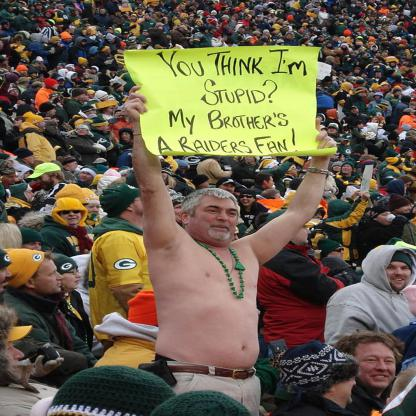face: (192, 201, 239, 243), (358, 352, 397, 389), (1, 337, 25, 378), (36, 266, 64, 293), (336, 375, 356, 409), (386, 262, 411, 289), (293, 222, 312, 244), (63, 267, 82, 288), (175, 205, 194, 225), (22, 239, 43, 257), (1, 265, 13, 295), (63, 208, 82, 226), (134, 196, 149, 216), (38, 174, 53, 190), (378, 212, 394, 225), (332, 247, 344, 260), (5, 174, 15, 189), (89, 204, 100, 217), (242, 195, 254, 206), (301, 174, 312, 186), (222, 185, 235, 195), (81, 172, 92, 183), (157, 172, 168, 182), (401, 204, 412, 214), (27, 191, 35, 202), (236, 190, 247, 198), (122, 173, 131, 182), (314, 213, 323, 222), (28, 155, 36, 165), (38, 120, 46, 130), (15, 175, 22, 186), (71, 162, 79, 171), (342, 166, 351, 174), (268, 179, 275, 189), (122, 133, 130, 141), (375, 200, 383, 207), (334, 165, 342, 172), (18, 100, 26, 107), (78, 130, 87, 136), (103, 125, 109, 134), (292, 168, 298, 177), (204, 180, 211, 187), (15, 120, 22, 127), (300, 157, 307, 164), (21, 69, 28, 76), (50, 109, 57, 116), (25, 173, 31, 181), (44, 119, 52, 125), (351, 108, 359, 114), (372, 167, 378, 175), (399, 162, 405, 170), (12, 91, 20, 97), (403, 185, 408, 194), (8, 160, 14, 167), (276, 196, 283, 202), (285, 184, 292, 190), (376, 113, 383, 119), (108, 107, 115, 113), (329, 129, 337, 134), (19, 62, 27, 67), (89, 110, 97, 115), (247, 157, 253, 163), (11, 108, 15, 117), (367, 211, 373, 217), (334, 154, 340, 160), (406, 184, 412, 190), (373, 184, 379, 190), (59, 81, 65, 87), (55, 118, 60, 125), (317, 117, 324, 122), (334, 112, 339, 119), (339, 101, 346, 106), (135, 29, 140, 35), (143, 31, 149, 36), (409, 151, 414, 157), (358, 153, 364, 158), (272, 158, 278, 163), (358, 124, 364, 129), (372, 119, 378, 124), (381, 121, 386, 127), (392, 139, 398, 144), (410, 105, 416, 110), (376, 72, 382, 77), (353, 193, 358, 199), (32, 73, 37, 79), (84, 62, 89, 68), (55, 84, 60, 90), (57, 99, 62, 105), (84, 123, 91, 127), (146, 15, 151, 20), (92, 26, 97, 31), (38, 5, 43, 10), (46, 23, 51, 28), (17, 40, 22, 45), (6, 24, 11, 29), (82, 41, 87, 46), (107, 50, 112, 55), (364, 151, 369, 156), (382, 107, 387, 112), (395, 129, 400, 134), (318, 86, 323, 91), (377, 87, 382, 92), (411, 93, 416, 98), (240, 29, 245, 34), (410, 204, 415, 209), (92, 69, 97, 74), (81, 95, 86, 100), (122, 110, 127, 115), (109, 40, 115, 44), (46, 13, 52, 17), (275, 166, 279, 172), (132, 49, 138, 53), (325, 81, 331, 85), (384, 86, 390, 90), (362, 74, 368, 78), (116, 113, 122, 117), (1, 43, 4, 50), (125, 35, 130, 39), (76, 12, 80, 17), (153, 16, 157, 21), (156, 11, 161, 15), (32, 104, 36, 109), (41, 74, 45, 79), (143, 44, 148, 48), (167, 36, 172, 40), (123, 46, 127, 51), (345, 140, 350, 144), (372, 136, 376, 141), (360, 93, 364, 98), (376, 96, 381, 100), (398, 92, 402, 97), (402, 85, 407, 89), (330, 92, 335, 96), (353, 80, 357, 85), (391, 63, 396, 67), (374, 59, 379, 63), (345, 131, 350, 135), (290, 12, 295, 16), (182, 6, 186, 11), (225, 18, 229, 23), (224, 26, 229, 30), (213, 28, 217, 33), (64, 17, 69, 21), (399, 25, 403, 30), (383, 53, 388, 57), (342, 158, 346, 163), (101, 11, 106, 15), (55, 41, 60, 45), (67, 38, 71, 43), (24, 83, 29, 87), (58, 66, 63, 70), (68, 68, 73, 72), (72, 75, 77, 79), (38, 86, 42, 91), (105, 97, 109, 102), (111, 71, 116, 75), (121, 87, 125, 92), (137, 1, 143, 4), (107, 30, 111, 34), (139, 6, 143, 10), (148, 39, 152, 43), (160, 26, 164, 30), (10, 7, 14, 11), (21, 4, 25, 8), (306, 36, 310, 40), (411, 112, 415, 116), (410, 72, 414, 76), (332, 59, 336, 63), (384, 42, 388, 46), (288, 35, 292, 39), (281, 44, 285, 48), (385, 28, 389, 32), (363, 115, 367, 119), (363, 83, 367, 87), (275, 30, 279, 34), (279, 12, 283, 16), (190, 11, 194, 15), (194, 4, 198, 8), (211, 32, 215, 36), (224, 36, 228, 40), (196, 18, 200, 22), (247, 18, 251, 22), (236, 9, 240, 13), (207, 21, 211, 25), (60, 27, 64, 31), (340, 74, 344, 78), (389, 34, 393, 38), (392, 40, 396, 44), (380, 35, 384, 39), (357, 28, 361, 32), (377, 53, 381, 57), (326, 40, 330, 44), (306, 18, 310, 22), (344, 8, 348, 12), (36, 63, 40, 67), (117, 13, 122, 16), (7, 61, 10, 66), (42, 1, 47, 4), (182, 28, 185, 33), (350, 86, 353, 91), (394, 72, 397, 77), (355, 70, 360, 73), (406, 61, 409, 66), (365, 54, 368, 59), (302, 46, 307, 49), (258, 16, 261, 21), (213, 4, 216, 9), (231, 43, 234, 48), (334, 38, 339, 41), (370, 45, 375, 48), (70, 30, 74, 33), (88, 30, 91, 34), (32, 15, 35, 19), (25, 11, 28, 15), (115, 31, 119, 34), (132, 17, 136, 20), (92, 5, 95, 9), (31, 7, 35, 10), (78, 84, 81, 88), (86, 98, 89, 102), (198, 22, 201, 26), (410, 129, 413, 133), (414, 135, 416, 141), (340, 71, 344, 74), (332, 52, 336, 55), (401, 17, 405, 20), (305, 26, 308, 30), (397, 13, 401, 16), (264, 45, 268, 48), (254, 25, 257, 29), (268, 14, 271, 18), (253, 13, 256, 17), (254, 7, 257, 11), (259, 8, 263, 11), (287, 28, 290, 32), (291, 23, 295, 26), (178, 7, 181, 11), (195, 10, 198, 14), (226, 10, 229, 14), (206, 30, 209, 34), (220, 36, 223, 40), (248, 31, 252, 34), (234, 7, 237, 11), (221, 32, 224, 36), (88, 2, 92, 5), (60, 14, 63, 18), (343, 79, 347, 82), (335, 73, 338, 77), (328, 44, 332, 47), (343, 46, 347, 49), (393, 12, 396, 16), (346, 15, 349, 19), (350, 23, 354, 26), (373, 22, 376, 26), (397, 40, 400, 44), (395, 37, 398, 41), (370, 18, 374, 21), (302, 29, 305, 33), (302, 19, 305, 23), (340, 15, 343, 19), (39, 28, 42, 32), (61, 7, 65, 10), (66, 73, 69, 77), (111, 88, 115, 91), (66, 31, 69, 34), (84, 32, 87, 35), (113, 27, 116, 30), (139, 10, 142, 13), (136, 8, 139, 11), (180, 23, 183, 26), (307, 41, 310, 44), (385, 81, 388, 84), (351, 74, 354, 77), (352, 53, 355, 56), (394, 8, 397, 11), (385, 2, 388, 5), (362, 6, 365, 9), (399, 6, 402, 9), (396, 17, 399, 20), (280, 21, 283, 24), (249, 39, 252, 42), (261, 2, 264, 5), (272, 14, 275, 17), (191, 17, 194, 20), (201, 14, 204, 17), (213, 13, 216, 16), (230, 3, 233, 6), (161, 2, 164, 5), (161, 9, 164, 12), (233, 17, 236, 20), (278, 2, 281, 5), (242, 9, 245, 12), (228, 8, 231, 11), (294, 29, 297, 32), (298, 13, 301, 16), (75, 3, 78, 6), (72, 13, 75, 16), (56, 15, 59, 18), (174, 11, 177, 14), (341, 39, 344, 42), (335, 7, 338, 10), (324, 10, 327, 13), (357, 4, 360, 7), (369, 10, 372, 13), (374, 13, 377, 16), (380, 5, 383, 8), (389, 24, 392, 27), (345, 21, 348, 24), (338, 21, 341, 24), (361, 22, 364, 25), (397, 34, 400, 37), (368, 28, 371, 31), (358, 40, 361, 43), (374, 48, 377, 51), (403, 56, 406, 59), (409, 38, 412, 41), (320, 38, 323, 41), (312, 27, 315, 30), (361, 48, 364, 51), (40, 64, 43, 67), (87, 70, 90, 73), (84, 73, 87, 76), (91, 95, 94, 98), (1, 26, 3, 30), (406, 42, 408, 46), (407, 4, 409, 8), (166, 20, 168, 24), (248, 2, 250, 6), (316, 27, 318, 31), (375, 5, 377, 9), (372, 41, 376, 43), (309, 6, 312, 8), (317, 4, 320, 6), (266, 33, 269, 35), (186, 20, 188, 23), (169, 7, 172, 9), (208, 15, 211, 17), (237, 2, 239, 5), (241, 12, 243, 15), (205, 4, 207, 7), (209, 3, 212, 5), (215, 2, 218, 4), (335, 80, 337, 83), (373, 30, 376, 32), (375, 17, 378, 19), (364, 16, 366, 19), (361, 13, 363, 16), (54, 5, 57, 7), (258, 34, 260, 36)
